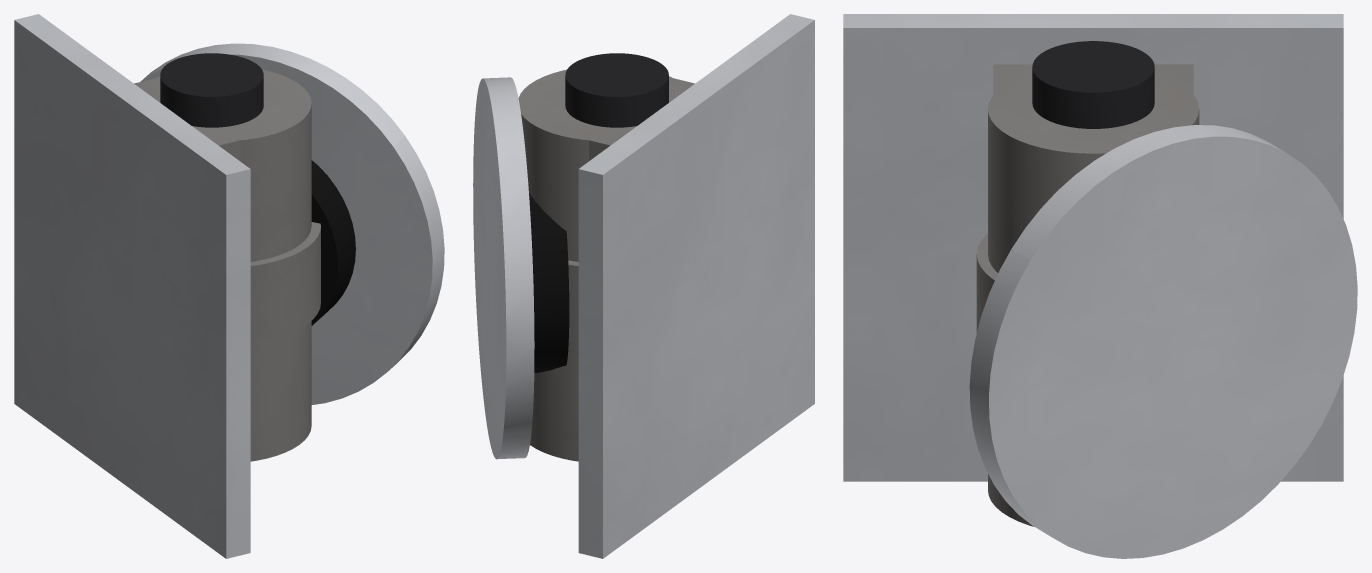
Rendered from rover18_steering_module_l_steer_left.glb.
3 renders of one model, left to right at view 1: azimuth 30°, elevation 25°; view 2: azimuth 150°, elevation 25°; view 3: azimuth 270°, elevation 25°, orthographic. The views are drawn at different scales.
Visible parts, largest first — view 1: mount_flange, half_b_flange, slew_ring, steer_motor, half_b_neck, yoke; view 2: mount_flange, half_b_flange, slew_ring, steer_motor, half_b_neck, yoke; view 3: half_b_flange, mount_flange, slew_ring, steer_motor, yoke.
Boxes of the visible parts, x1,y1,x2,y2 form: mount_flange: (14, 14, 250, 558); half_b_flange: (140, 43, 444, 404); slew_ring: (141, 69, 320, 461); steer_motor: (160, 53, 263, 127); half_b_neck: (311, 160, 355, 325); yoke: (134, 78, 256, 160); mount_flange: (578, 14, 814, 558); half_b_flange: (473, 77, 534, 459); slew_ring: (518, 69, 687, 461); steer_motor: (565, 53, 668, 127); half_b_neck: (529, 193, 569, 372); yoke: (576, 77, 694, 160); half_b_flange: (969, 125, 1357, 558); mount_flange: (843, 14, 1343, 481); slew_ring: (976, 73, 1199, 526); steer_motor: (1032, 41, 1154, 128); yoke: (993, 64, 1193, 108).
Size of the model in its own units: 0.3435 by 0.45 by 0.4625.
Materials: 4 (2 with a texture image).
